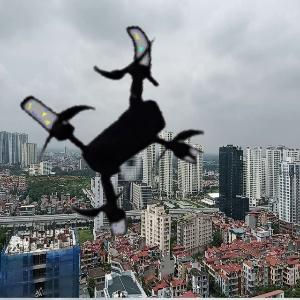drone: (2, 20, 216, 234)
